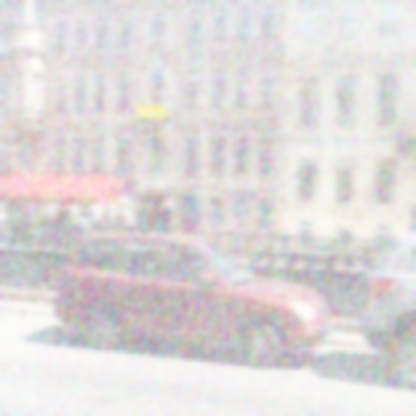Vehicle: (55, 236, 331, 370)
